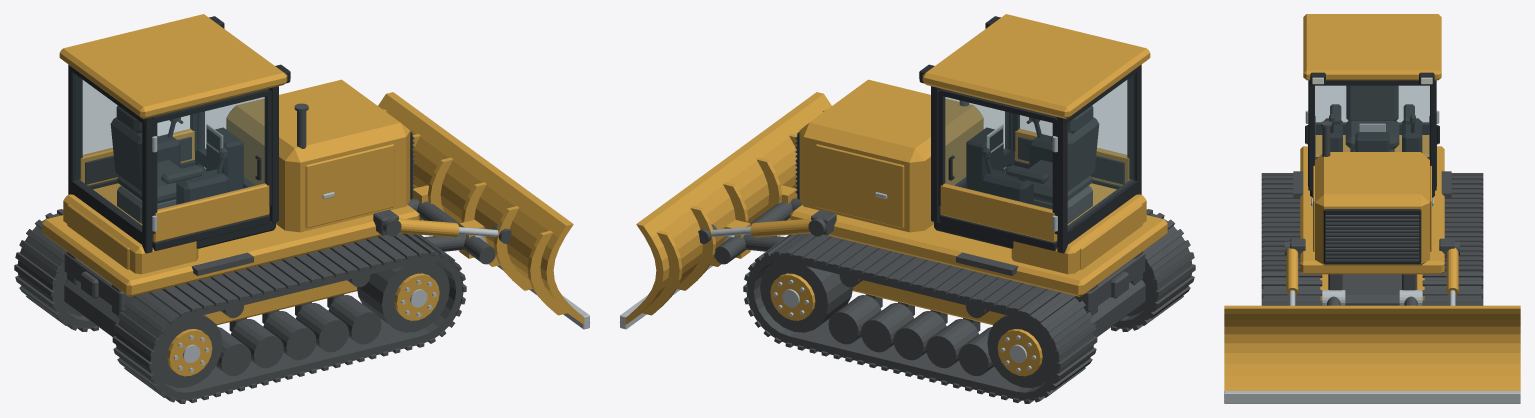
The picture shows the model from 3 angles, left to right: view 1: azimuth 30°, elevation 25°; view 2: azimuth 150°, elevation 25°; view 3: azimuth 270°, elevation 25°; orthographic projection. The views are drawn at different scales.
Visible parts, largest first — view 1: cab_roof, right_continuous_track, engine_block_cover, blade_moldboard, door_glass_-1, chassis_deck, cab_glazing_-1.34, engine_service_panel_-1, door_lower_-1, right_endwheel_1, rear_body, cab_glazing_-0.04 (+37 smaller); view 2: cab_roof, left_continuous_track, engine_block_cover, blade_moldboard, door_glass_1, chassis_deck, cab_glazing_-1.34, engine_service_panel_1, door_lower_1, left_endwheel_1, rear_body, cab_glazing_-0.04 (+37 smaller); view 3: blade_moldboard, cab_roof, engine_block_cover, cab_glazing_-0.04, blade_cutting_edge, chassis_deck, nose_radiator_backing, seat_back, right_continuous_track, left_continuous_track, belly_pan, cab_glazing_-1.34 (+34 smaller).
Boxes of the visible parts, x1,y1,x2,y2 form: cab_roof: (59, 14, 287, 119); right_continuous_track: (116, 233, 463, 400); engine_block_cover: (226, 79, 410, 232); blade_moldboard: (378, 92, 590, 324); door_glass_-1: (157, 97, 265, 209); chassis_deck: (42, 205, 419, 296); cab_glazing_-1.34: (76, 75, 141, 227); engine_service_panel_-1: (305, 144, 394, 228); door_lower_-1: (152, 183, 269, 242); right_endwheel_1: (357, 261, 449, 332); rear_body: (63, 183, 198, 274); cab_glazing_-0.04: (203, 97, 263, 185); cab_roof: (922, 14, 1150, 119); left_continuous_track: (746, 233, 1093, 400); engine_block_cover: (799, 79, 983, 232); blade_moldboard: (619, 92, 831, 324); door_glass_1: (944, 97, 1052, 209); chassis_deck: (790, 205, 1167, 296); cab_glazing_-1.34: (1068, 75, 1133, 227); engine_service_panel_1: (815, 144, 904, 228); door_lower_1: (940, 183, 1057, 242); left_endwheel_1: (760, 261, 852, 332); rear_body: (1011, 183, 1146, 274); cab_glazing_-0.04: (946, 97, 1006, 185); blade_moldboard: (1224, 305, 1520, 399); cab_roof: (1303, 14, 1441, 80); engine_block_cover: (1315, 152, 1429, 265); cab_glazing_-0.04: (1315, 86, 1429, 159); blade_cutting_edge: (1224, 391, 1520, 403); chassis_deck: (1300, 146, 1444, 274); nose_radiator_backing: (1323, 209, 1421, 264); seat_back: (1346, 85, 1398, 121); right_continuous_track: (1263, 179, 1320, 300); left_continuous_track: (1424, 179, 1481, 300); belly_pan: (1343, 274, 1401, 305); cab_glazing_-1.34: (1315, 86, 1429, 122).
Bounding box in the file's own units: 4.31 × 2.77 × 3.22.
